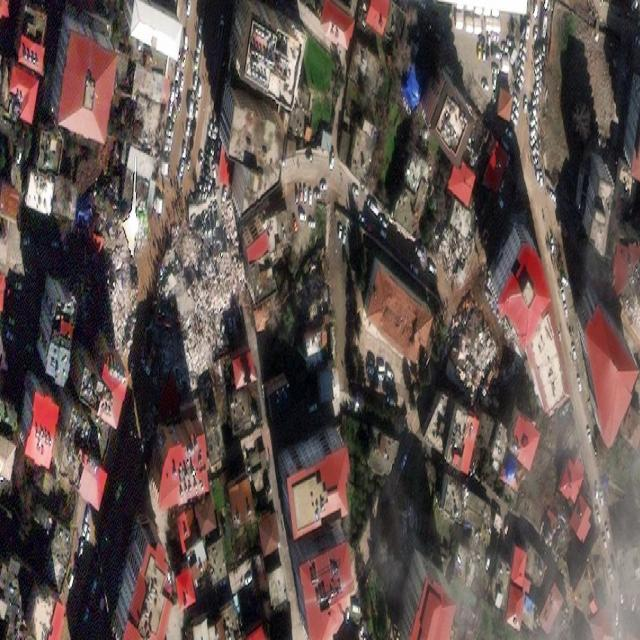Rubble: (92, 203, 134, 351), (196, 184, 248, 281), (158, 270, 198, 390), (454, 309, 504, 394), (194, 284, 247, 343), (436, 202, 474, 279), (166, 207, 198, 268)
